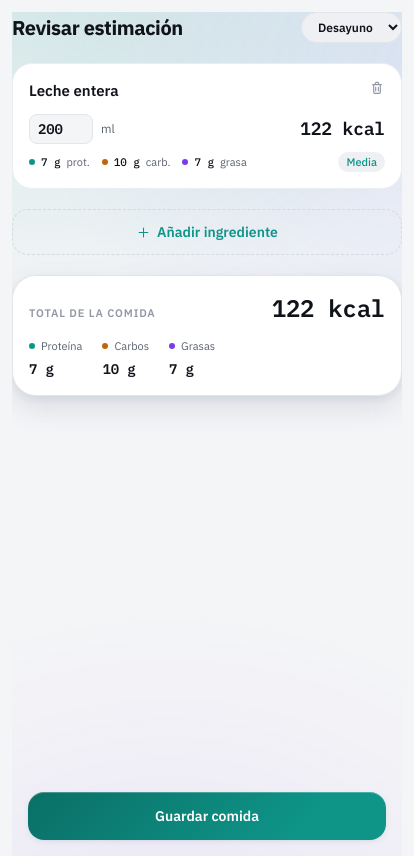
Test: MealComposer: editar la cantidad de un ingrediente › deja borrar el número y escribir otro
This screenshot has width=414, height=856.
Clear the field named "Cantidad en ml" at (61, 128), box [29, 114, 93, 144]
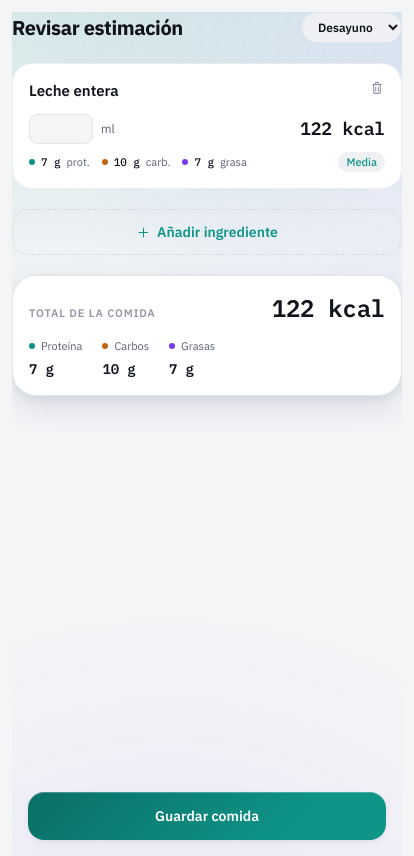
Expected: the text "122 kcal" in the row of "ml" is shown, [300, 116, 385, 140]
Type "300" into the field named "Cantidad en ml" at (61, 128), box [29, 114, 93, 144]
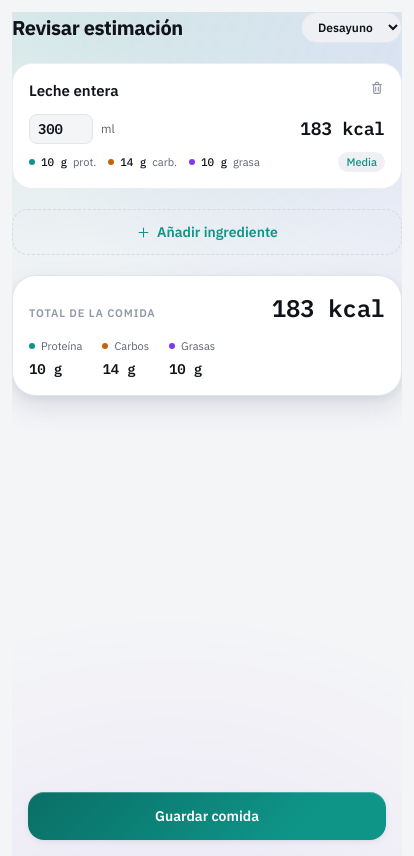
Expected: the text "183 kcal" in the row of "ml" is shown, [300, 116, 385, 140]
